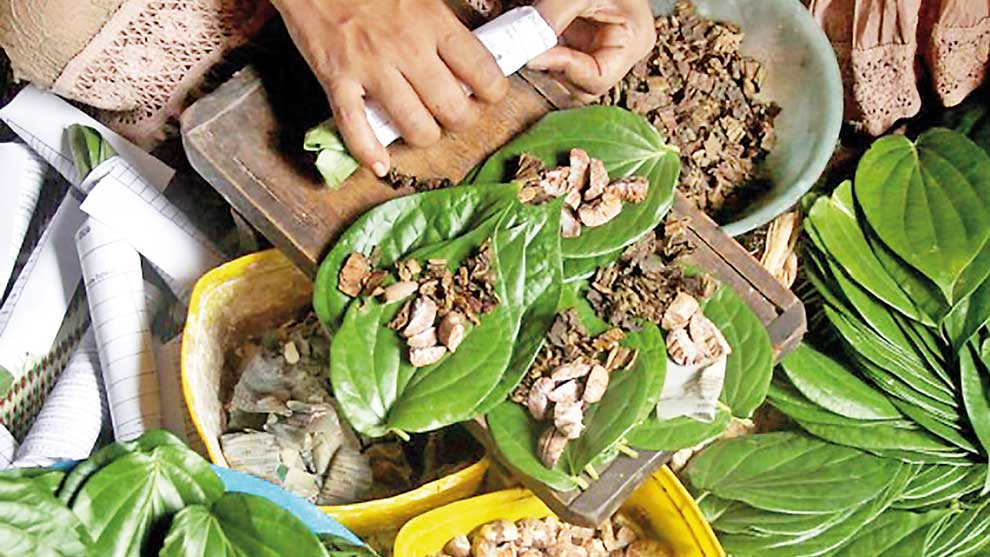bulathwita: (311, 175, 562, 440), (487, 262, 660, 487), (478, 103, 680, 258), (853, 127, 986, 304)
